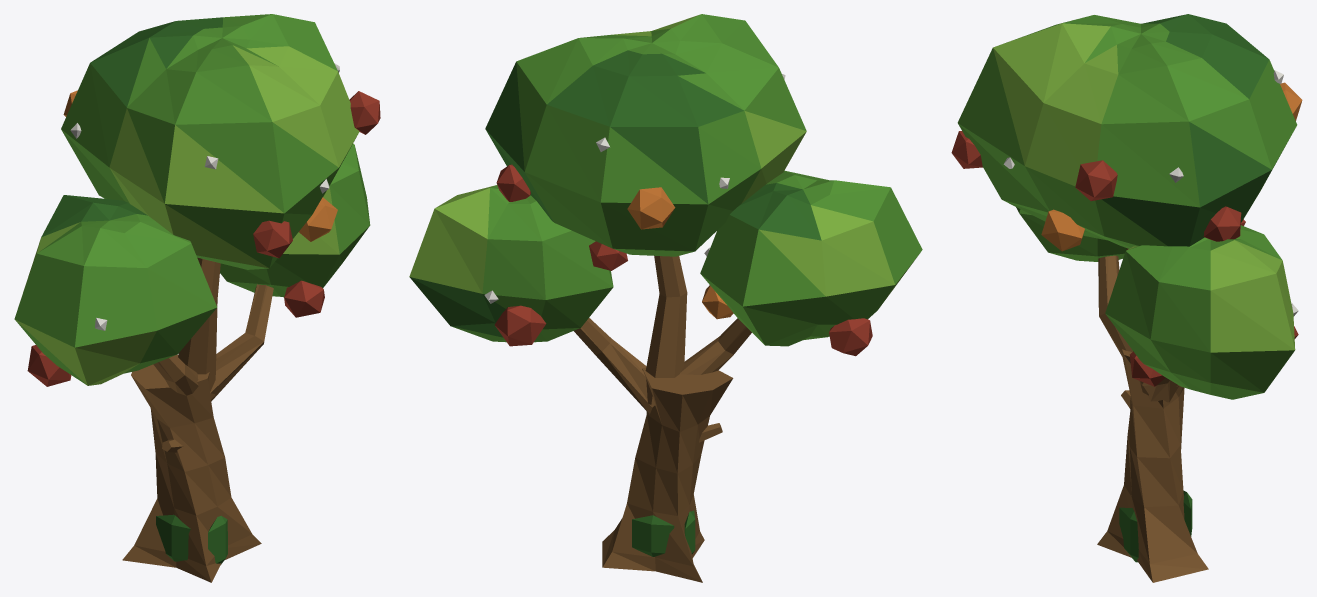
Rendered from fruit-tree-4bb1af.glb.
3 renders of one model, left to right at view 1: azimuth 30°, elevation 25°; view 2: azimuth 150°, elevation 25°; view 3: azimuth 270°, elevation 25°, orthographic. The views are drawn at different scales.
Parts seen in each view (by area): view 1: fruit-tree-mesh; view 2: fruit-tree-mesh; view 3: fruit-tree-mesh.
Boxes of the visible parts, box(x1,y1,x2,y2) form: fruit-tree-mesh: box(14, 14, 380, 582); fruit-tree-mesh: box(409, 14, 922, 582); fruit-tree-mesh: box(951, 14, 1302, 582).
Bounding box in the file's own units: 3.22 × 4 × 2.37.
